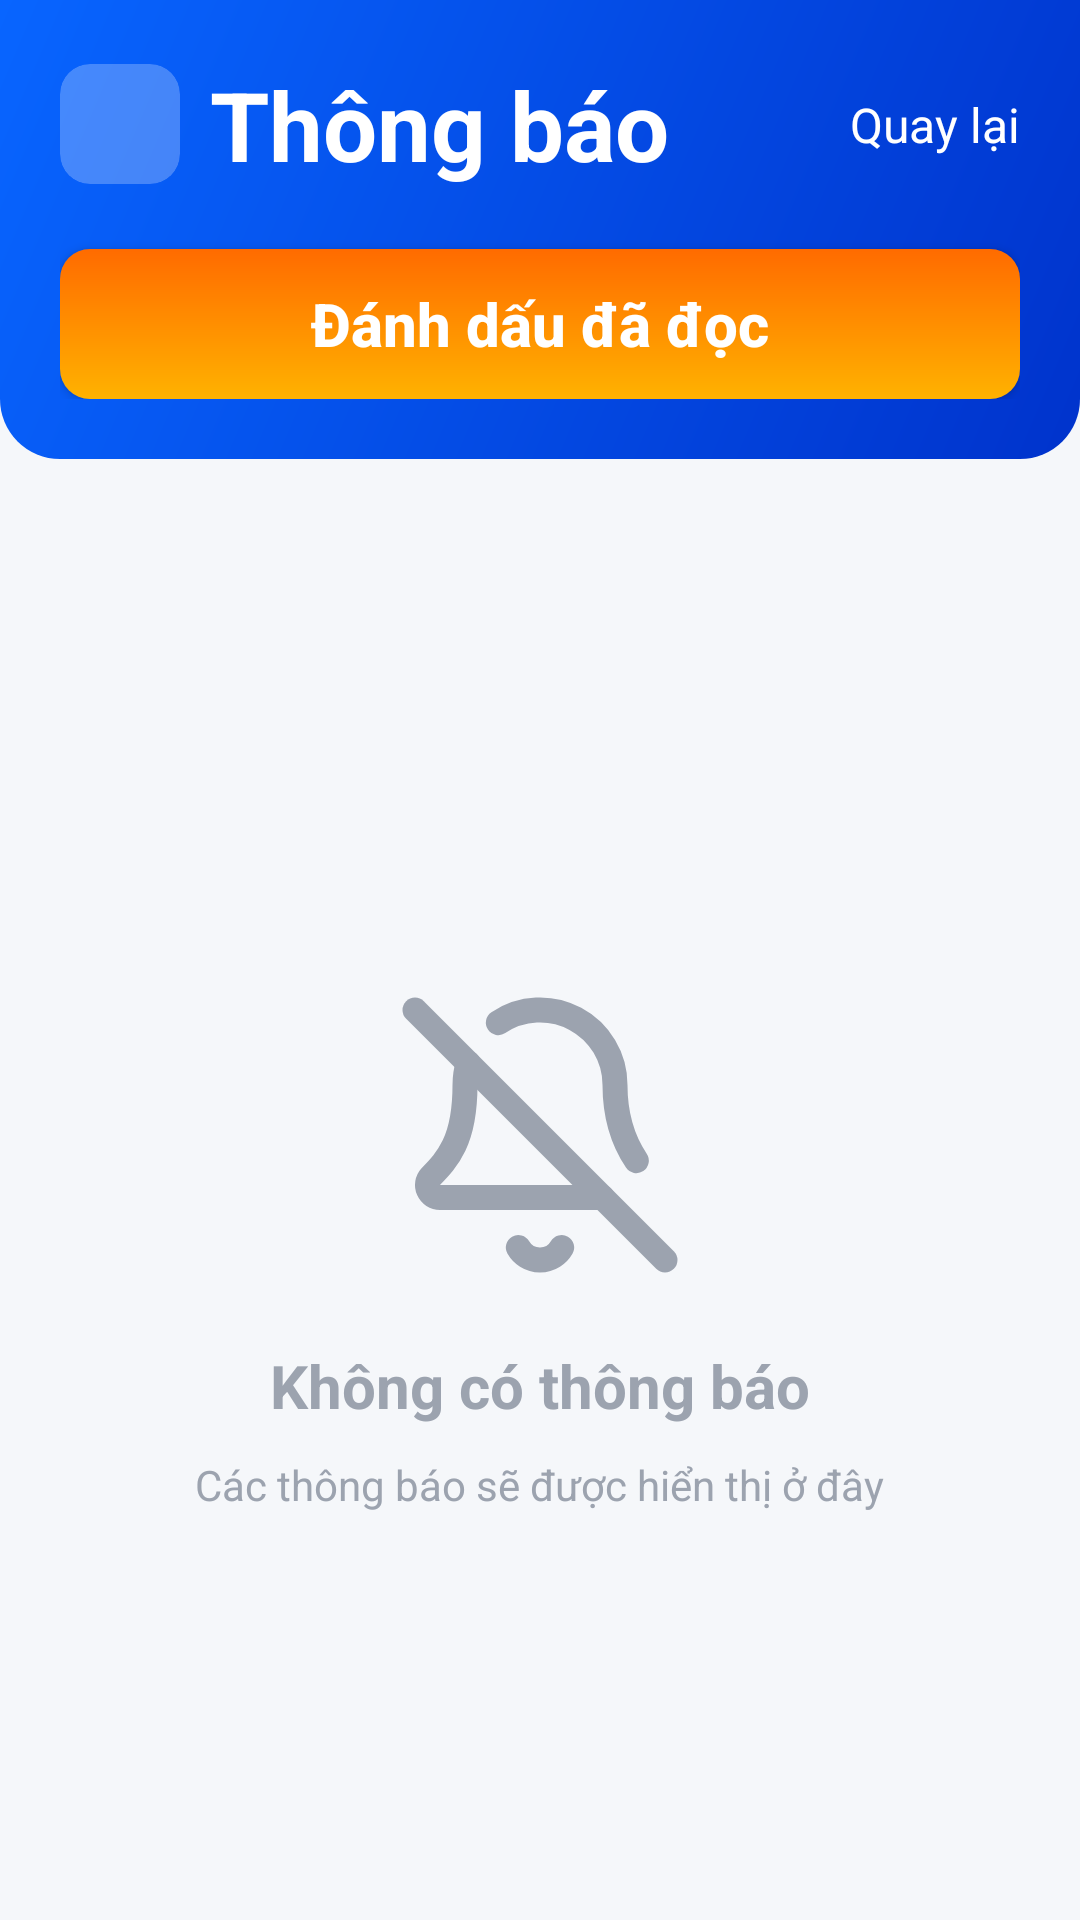

Icon bounding boxes for this 1080px x 1920px phone screenshot, format BBox(x1, y1, x2, y2):
bell off: BBox(402, 997, 678, 1273)
